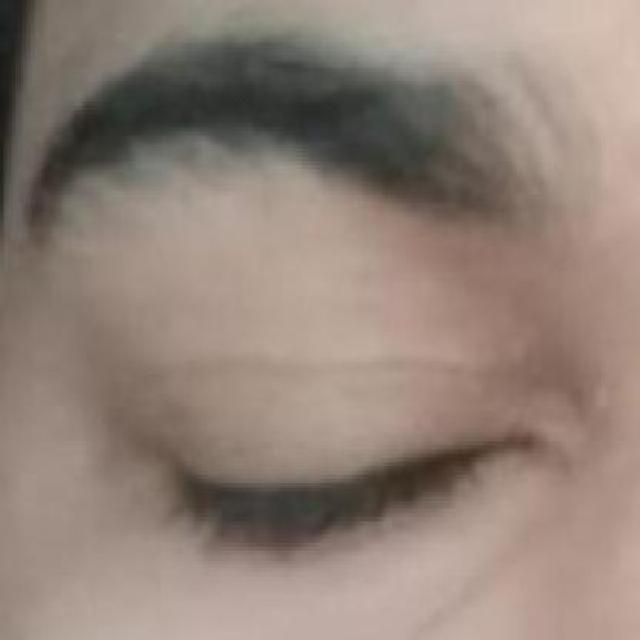drowsy: (132, 313, 536, 636)
